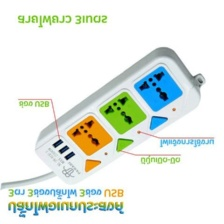three_eye_plug: (27, 44, 205, 188)
